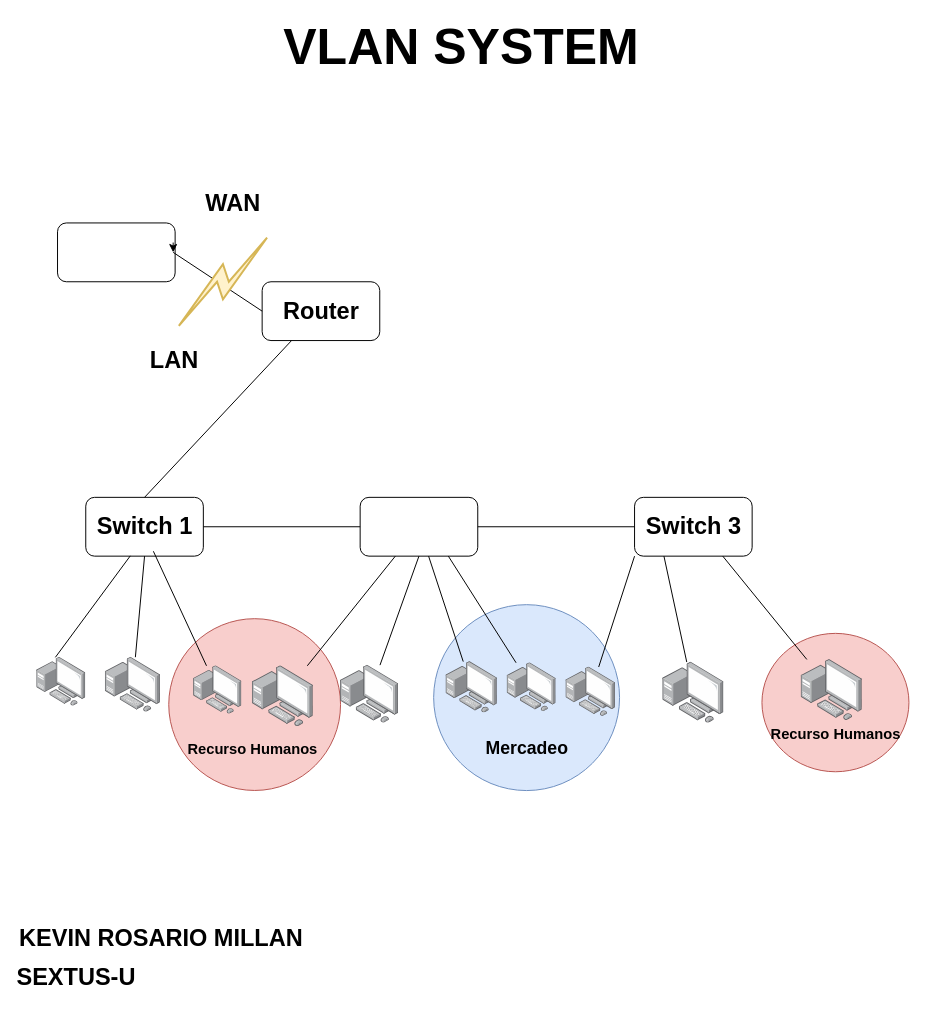
Some shapes in this 926 by 1014 pixel diagram are drawn without their labels. The shapes that lost their labels are listed below. From the top down, each one's centre as x and y in pixels, then its label:
point (116, 252): ISP
point (418, 526): Switch 2
